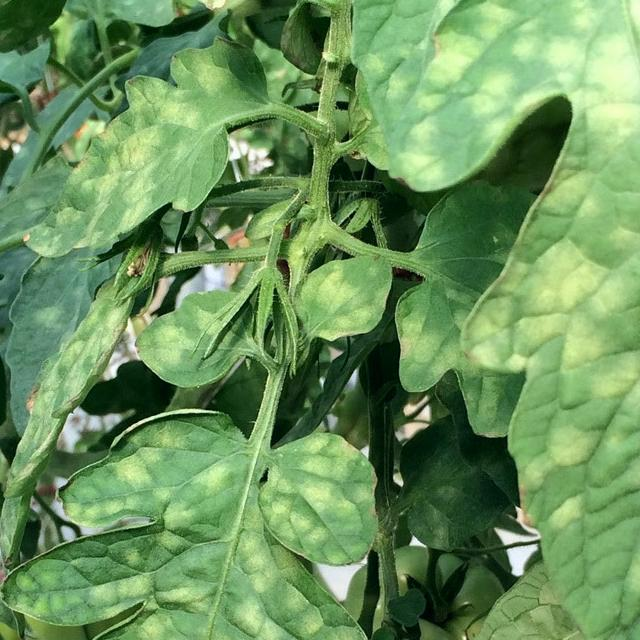Tomato mold leaf: (420, 0, 640, 640), (4, 407, 374, 640), (19, 41, 308, 268), (439, 526, 606, 640), (345, 0, 538, 68), (290, 255, 401, 354), (131, 287, 237, 388), (156, 0, 271, 27)
